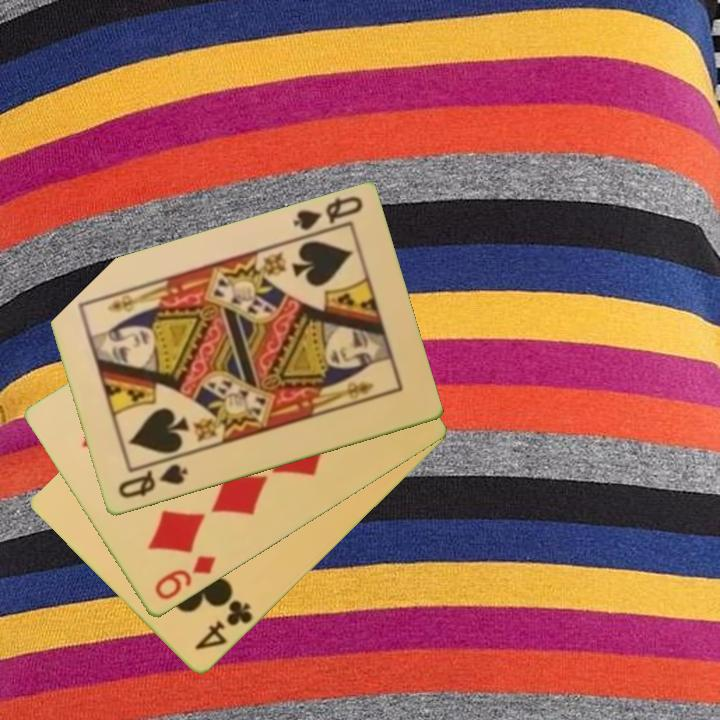4c: (191, 597, 256, 654)
9d: (151, 552, 219, 604)
Qs: (114, 460, 191, 502), (288, 193, 366, 234)
